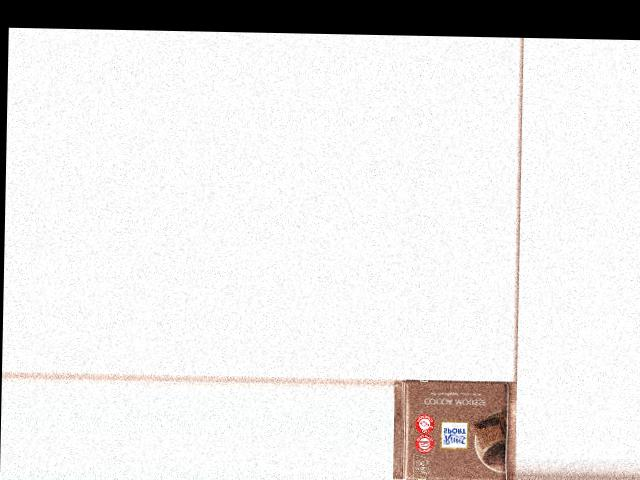chocolate: (394, 378, 517, 480)
